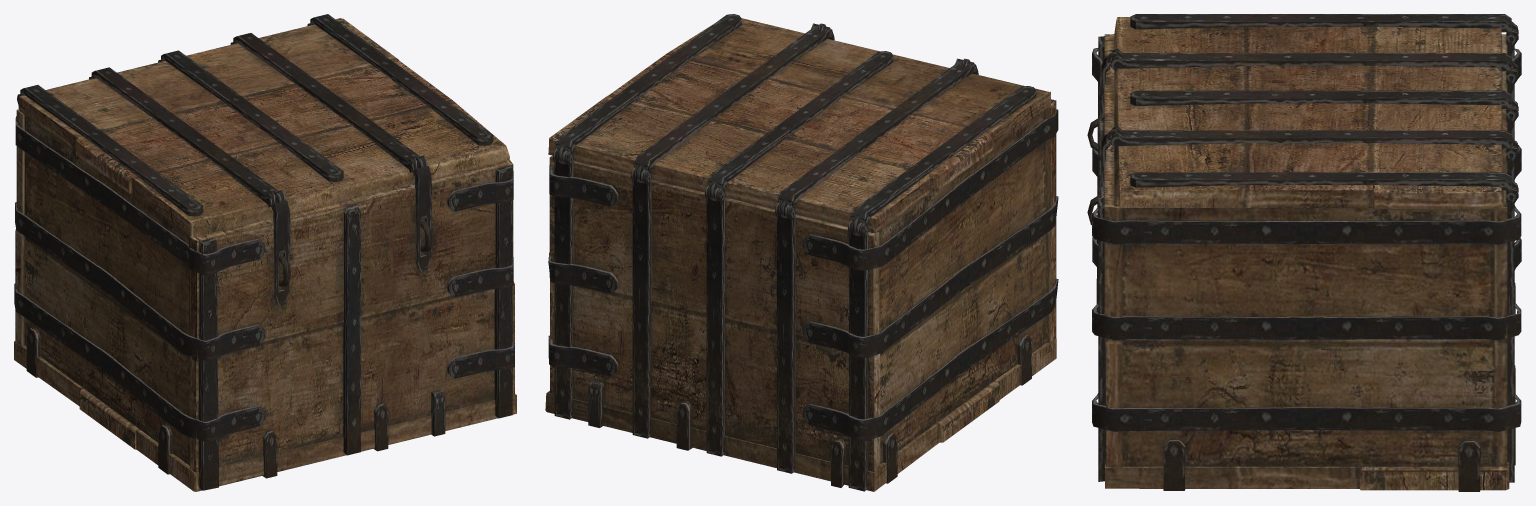
Rendered from ORAKEL-CubeV4.gltf.
3 views of the same model, side by side, from view 1: azimuth 30°, elevation 25°; view 2: azimuth 150°, elevation 25°; view 3: azimuth 270°, elevation 25° (orthographic). The views are drawn at different scales.
Visible parts, largest first — view 1: medieval_chest; view 2: medieval_chest; view 3: medieval_chest.
Part boxes in pixels (left/top/right/bottom): medieval_chest: left=14, top=14, right=516, bottom=491; medieval_chest: left=545, top=14, right=1058, bottom=491; medieval_chest: left=1087, top=14, right=1521, bottom=491.
Size of the model in its own units: 9.95 by 8.01 by 10.18.
Materials: 1 (1 with a texture image).
